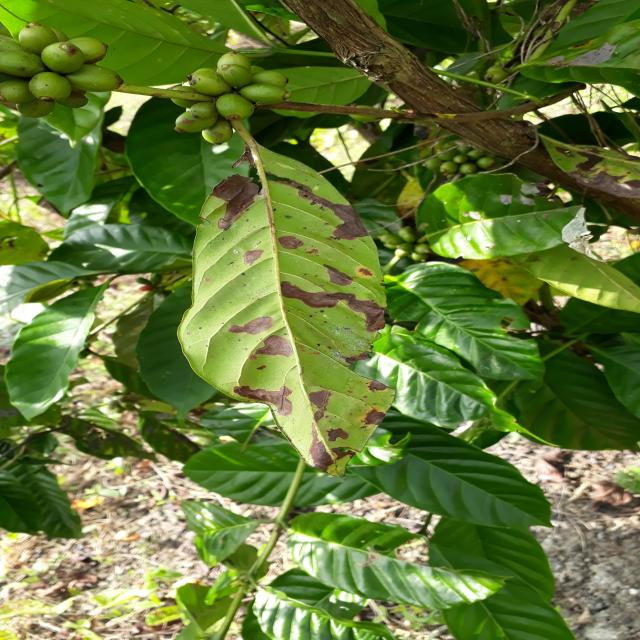Plaga-AranaRoja: (179, 127, 396, 474)
